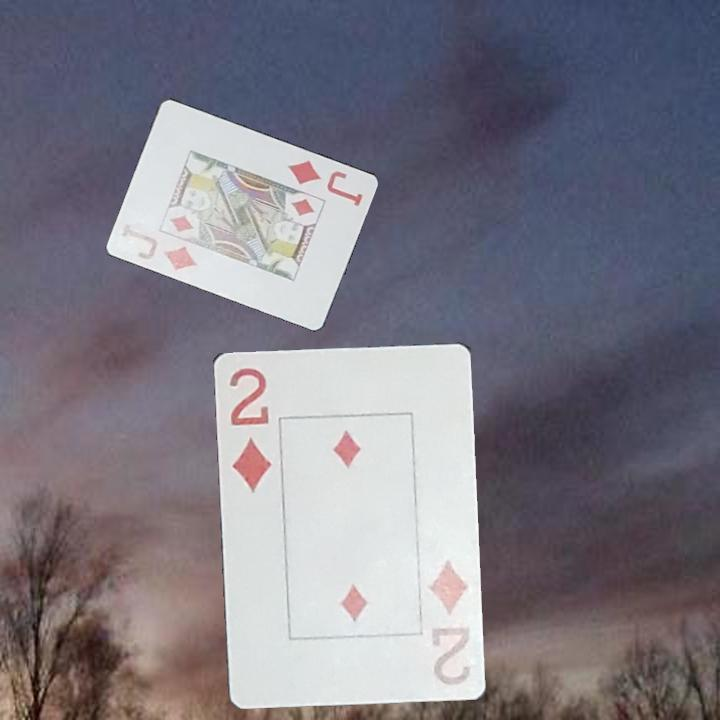2d: (421, 555, 477, 688), (225, 363, 274, 495)
Jd: (114, 221, 200, 275), (283, 157, 365, 210)
